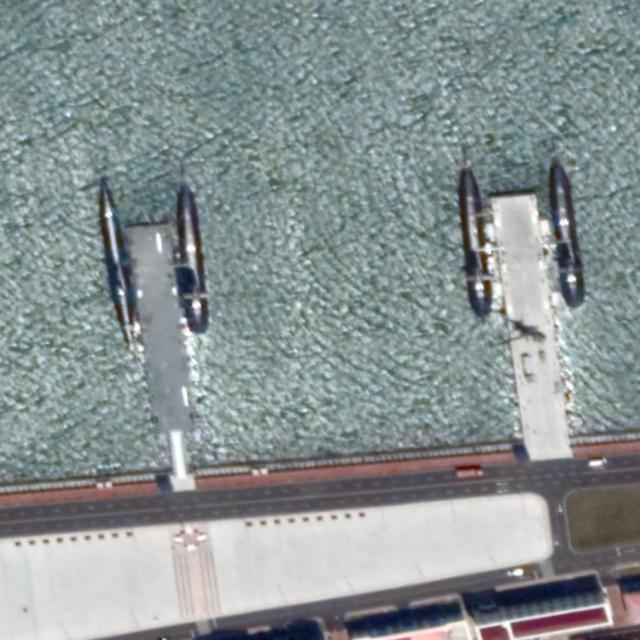Submarine: (93, 178, 141, 357), (166, 180, 214, 339), (541, 157, 590, 311), (450, 164, 495, 320)
